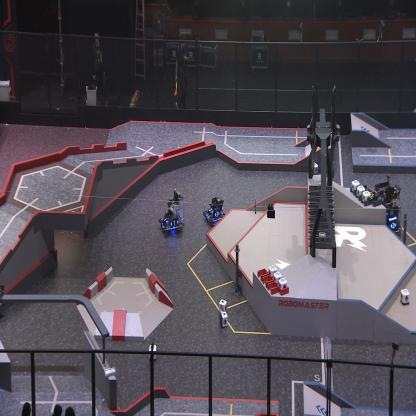car: (370, 180, 402, 236), (158, 188, 184, 235), (202, 195, 228, 226)
